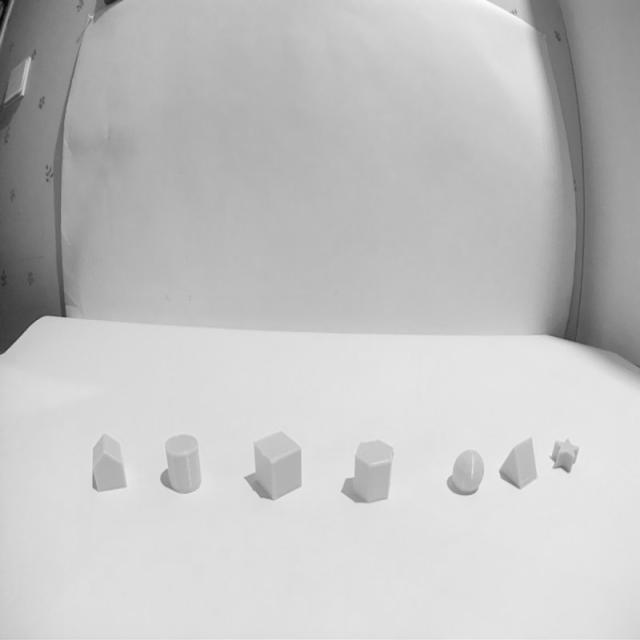ball: (450, 449, 486, 494)
cube: (252, 431, 302, 500)
cylinder: (164, 433, 202, 494)
hexagon: (352, 440, 395, 502)
home: (91, 434, 128, 492)
star: (551, 438, 579, 472)
triangle: (500, 438, 537, 490)
